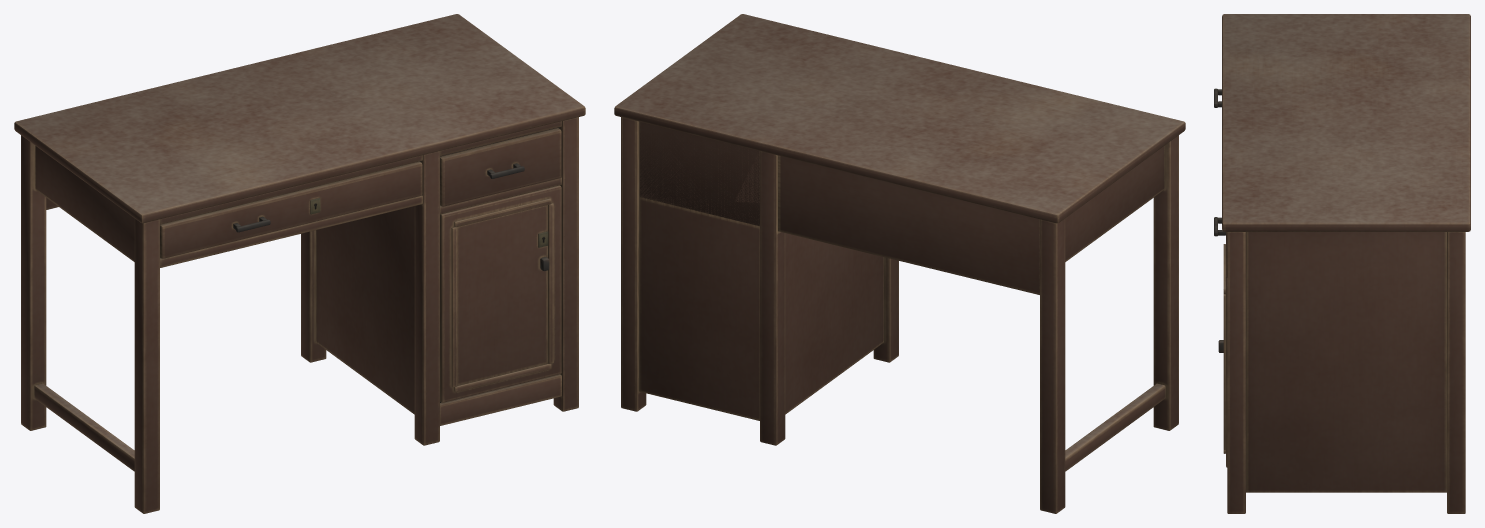
The model's file is GuardDesk.glb.
The picture shows the model from 3 angles, left to right: view 1: azimuth 30°, elevation 25°; view 2: azimuth 150°, elevation 25°; view 3: azimuth 270°, elevation 25°; orthographic projection. The views are drawn at different scales.
Parts seen in each view (by area): view 1: GuardDesk; view 2: GuardDesk; view 3: GuardDesk.
Boxes of the visible parts, left/top/right/bottom form: GuardDesk: left=14, top=14, right=585, bottom=513; GuardDesk: left=614, top=14, right=1185, bottom=513; GuardDesk: left=1214, top=14, right=1470, bottom=513.
Size of the model in its own units: 1.2 by 0.78 by 0.6195.
1 material, 1 textured.
